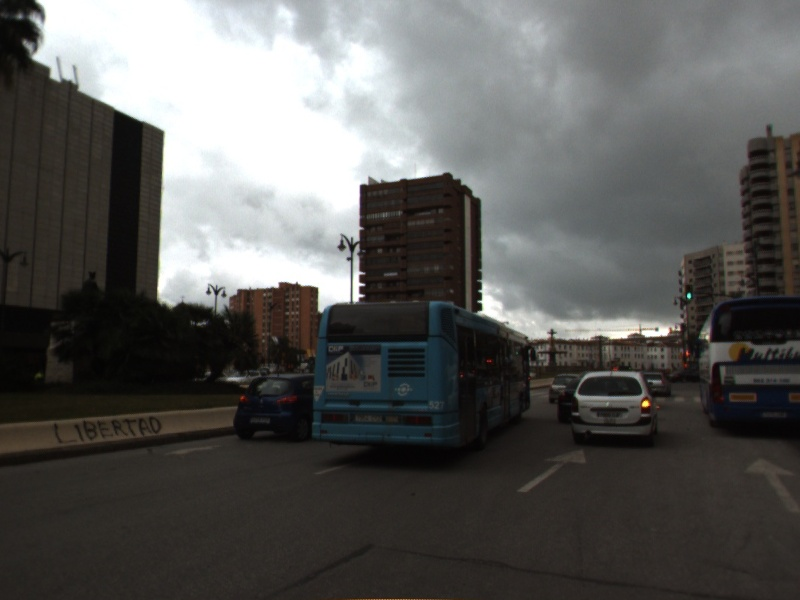STRAIGHT: (514, 445, 588, 495), (741, 455, 800, 513)
